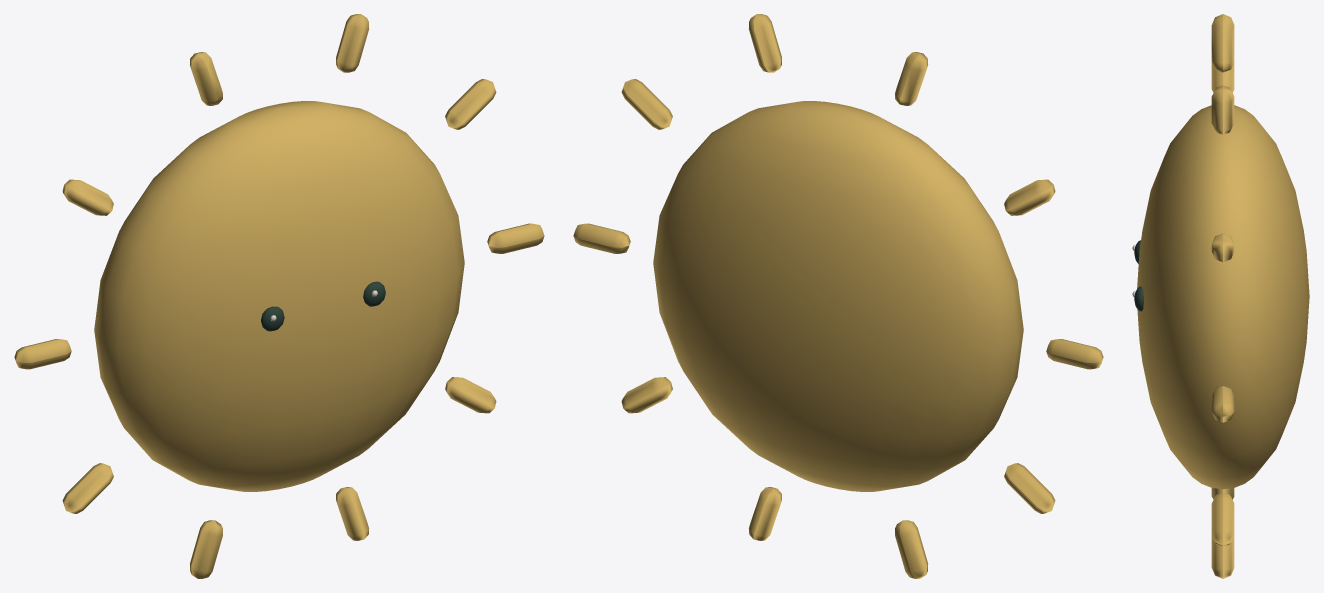
Rendered from sun.glb.
3 views of the same model, side by side, from view 1: azimuth 30°, elevation 25°; view 2: azimuth 150°, elevation 25°; view 3: azimuth 270°, elevation 25° (orthographic). The views are drawn at different scales.
Visible parts, largest first — view 1: body; view 2: body; view 3: body.
Part boxes in pixels (x1,y1,x2,y2): body: (14,14,544,578); body: (573,14,1103,578); body: (1132,14,1309,578).
Bounding box in the file's own units: 2.5 × 2.38 × 0.7785.
